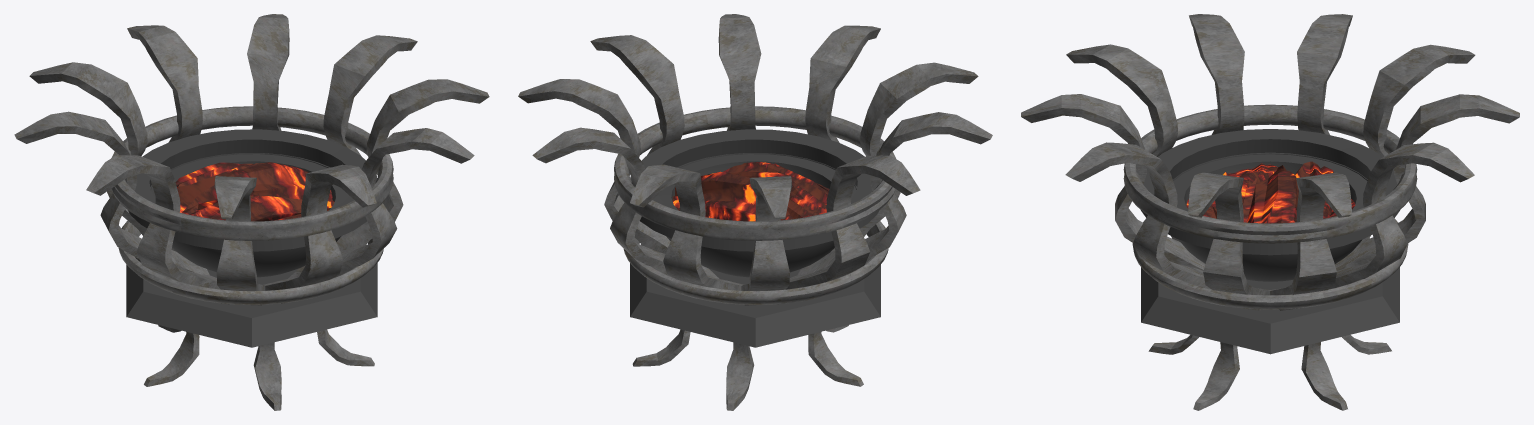
The model's file is uploads_files_6995709_Firepit.fbx.
3 renders of one model, left to right at view 1: azimuth 30°, elevation 25°; view 2: azimuth 150°, elevation 25°; view 3: azimuth 270°, elevation 25°, orthographic. The views are drawn at different scales.
Visible parts, largest first — view 1: Firepit; view 2: Firepit; view 3: Firepit.
Boxes of the visible parts, box(x1,y1,x2,y2) form: Firepit: box(14, 14, 489, 410); Firepit: box(518, 14, 992, 410); Firepit: box(1021, 14, 1519, 410).
Bounding box in the file's own units: 480 × 294 × 501.
Materials: 3 (2 with a texture image).
